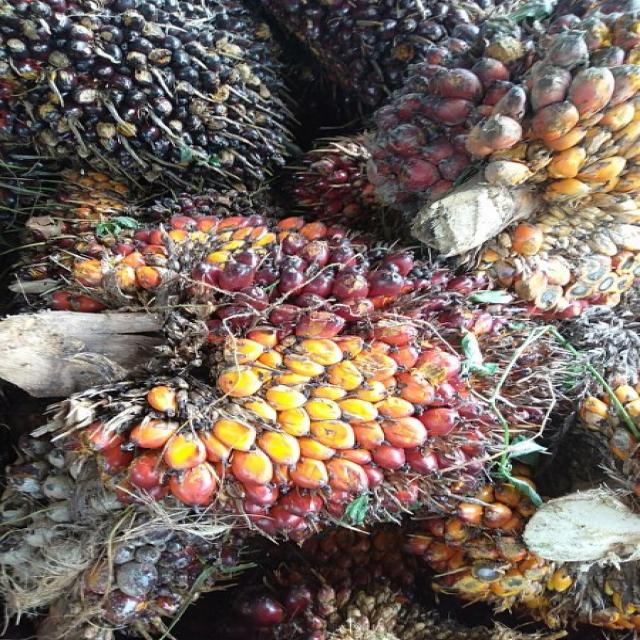fraksi 00: (0, 0, 338, 215)
fraksi 1: (10, 202, 572, 546)
